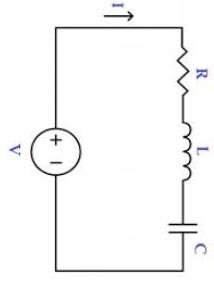Capacitor: (156, 211, 207, 241)
